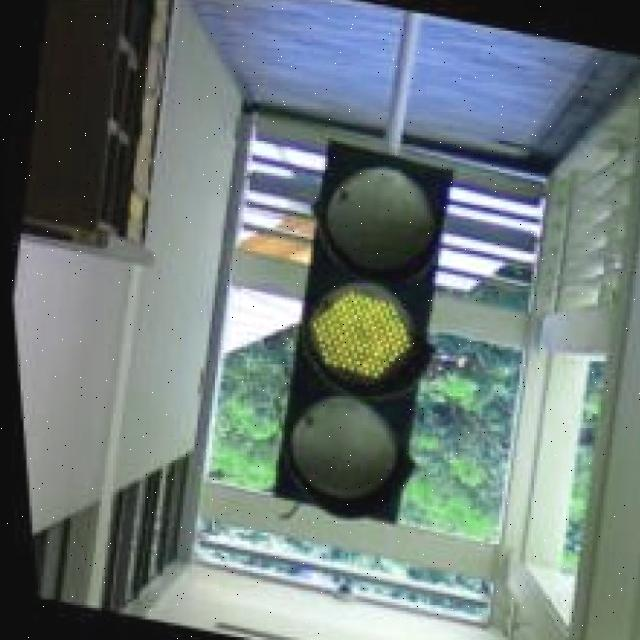Lampu Kuning: (237, 135, 478, 530)
